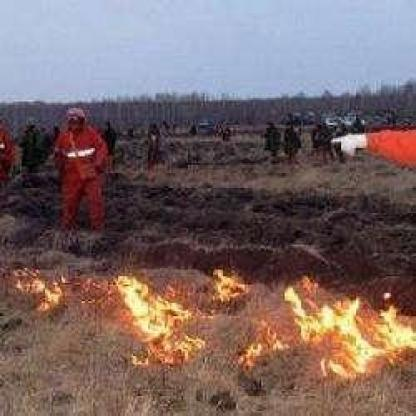fire: (15, 251, 406, 390)
